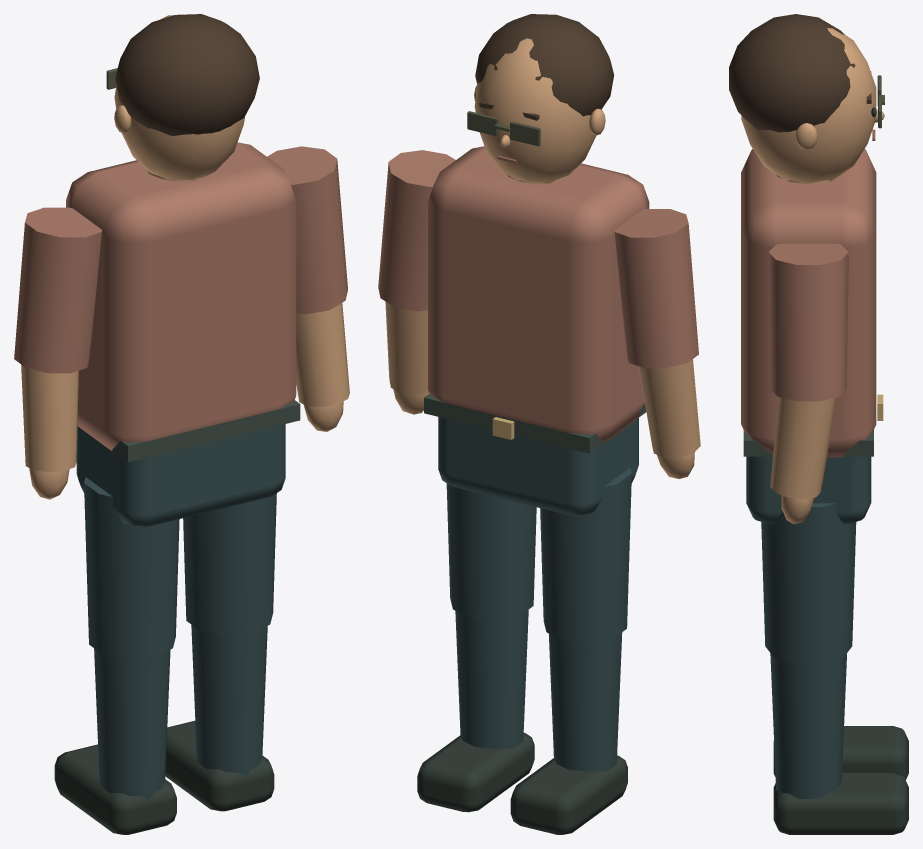
The model's file is scout-04.glb.
3 views of the same model, side by side, from view 1: azimuth 30°, elevation 25°; view 2: azimuth 150°, elevation 25°; view 3: azimuth 270°, elevation 25° (orthographic). The views are drawn at different scales.
Visible parts, largest first — view 1: Scout character 4, left-upper-arm, right-upper-arm; view 2: Scout character 4, left-upper-arm, right-upper-arm; view 3: Scout character 4, right-upper-arm.
Part boxes in pixels (x1,y1,x2,y2): Scout character 4: (54,14,300,834); left-upper-arm: (14,207,102,499); right-upper-arm: (267,146,349,431); Scout character 4: (417,14,649,834); left-upper-arm: (614,209,700,478); right-upper-arm: (378,150,455,414); Scout character 4: (729,14,908,834); right-upper-arm: (768,243,848,524).
Bounding box in the file's own units: 0.7284 × 1.72 × 0.3591.
